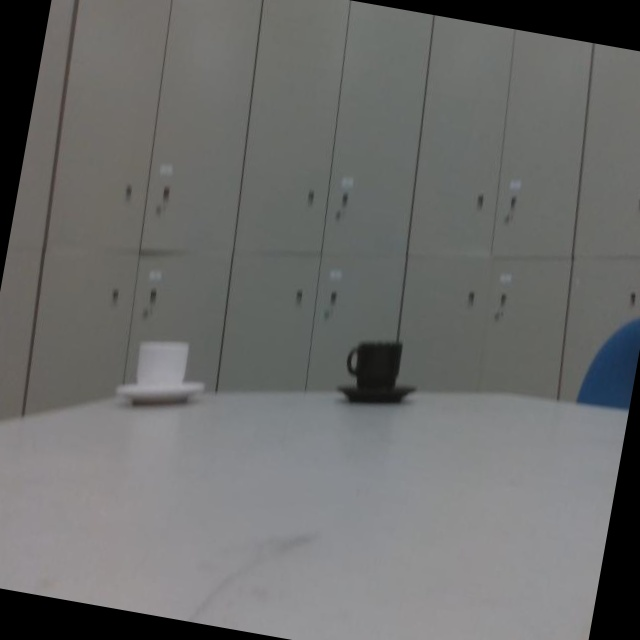black: (338, 336, 421, 407)
white: (117, 335, 208, 415)
